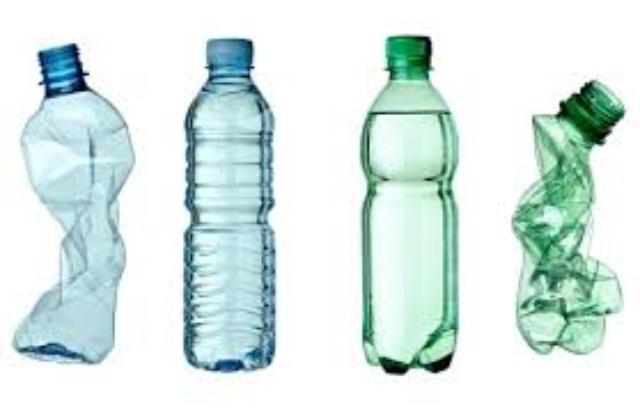plastic: (11, 41, 128, 358), (358, 34, 454, 369), (181, 37, 271, 365), (512, 78, 619, 349)
